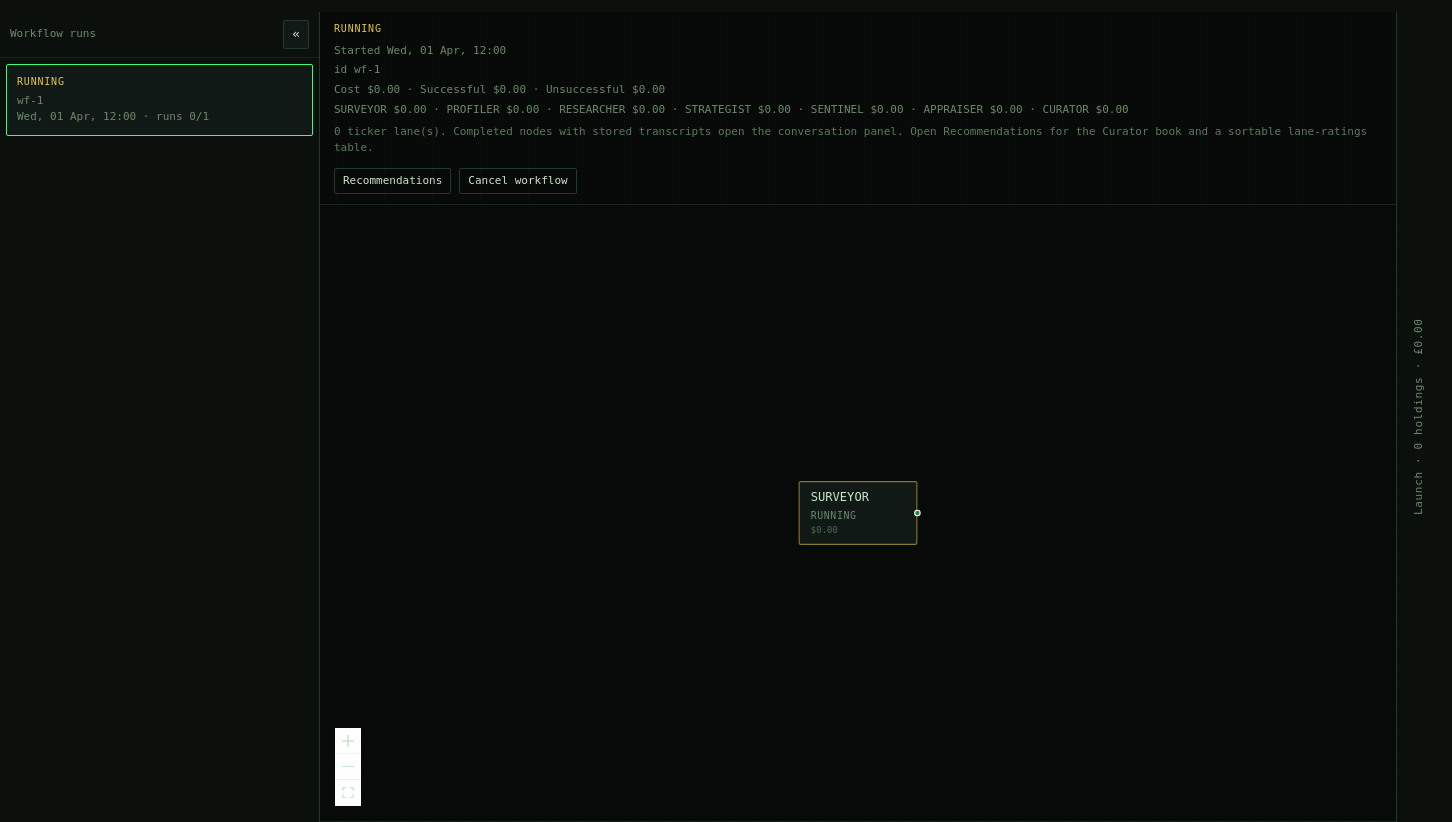
Test case: DashboardShell cancellation › shows action errors when cancel fails
Click the button "Cancel workflow".
click(518, 181)  # box [459,168,577,194]
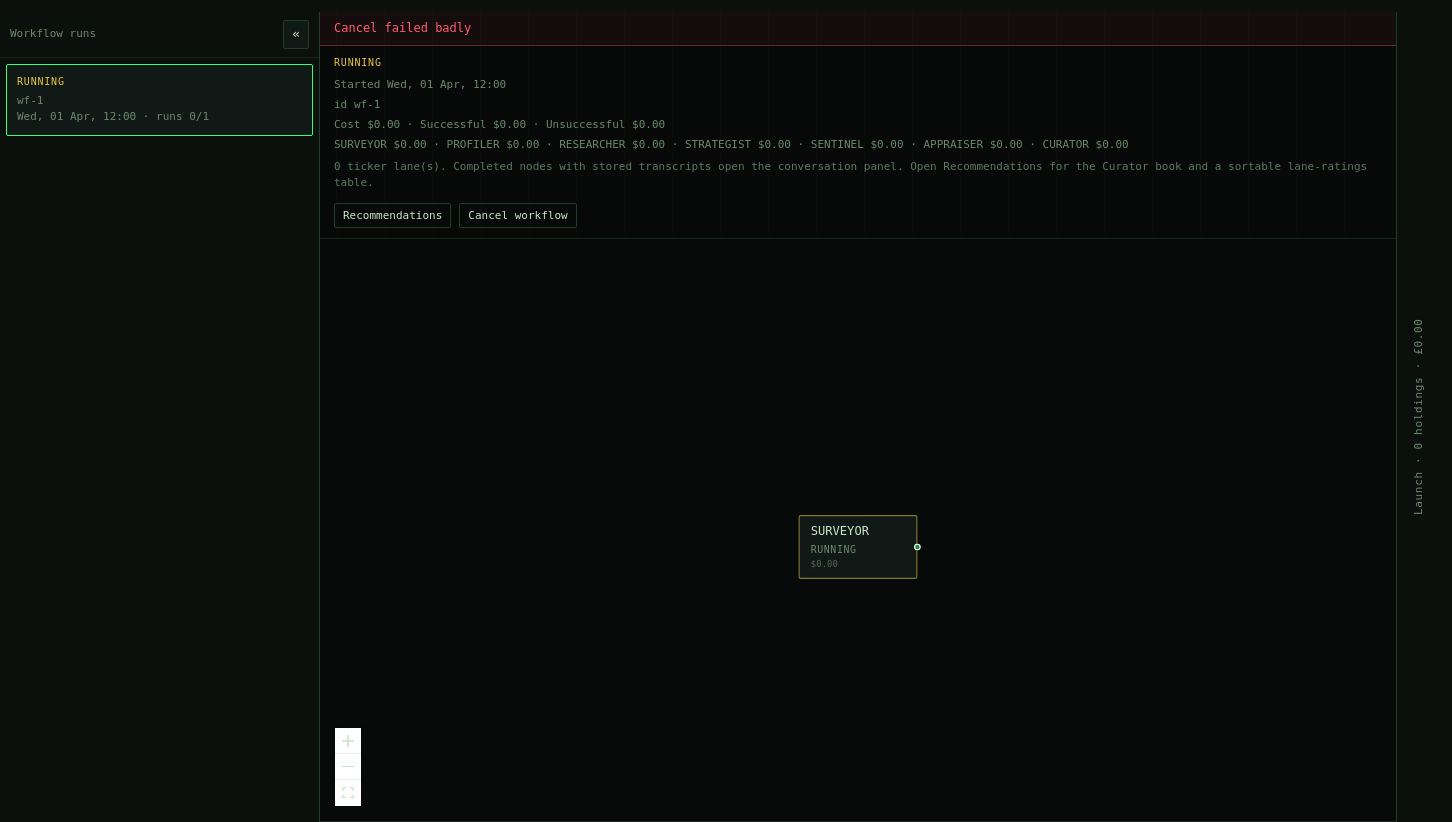
Check: the text "Cancel failed badly" is shown, box [334,21,471,35]
